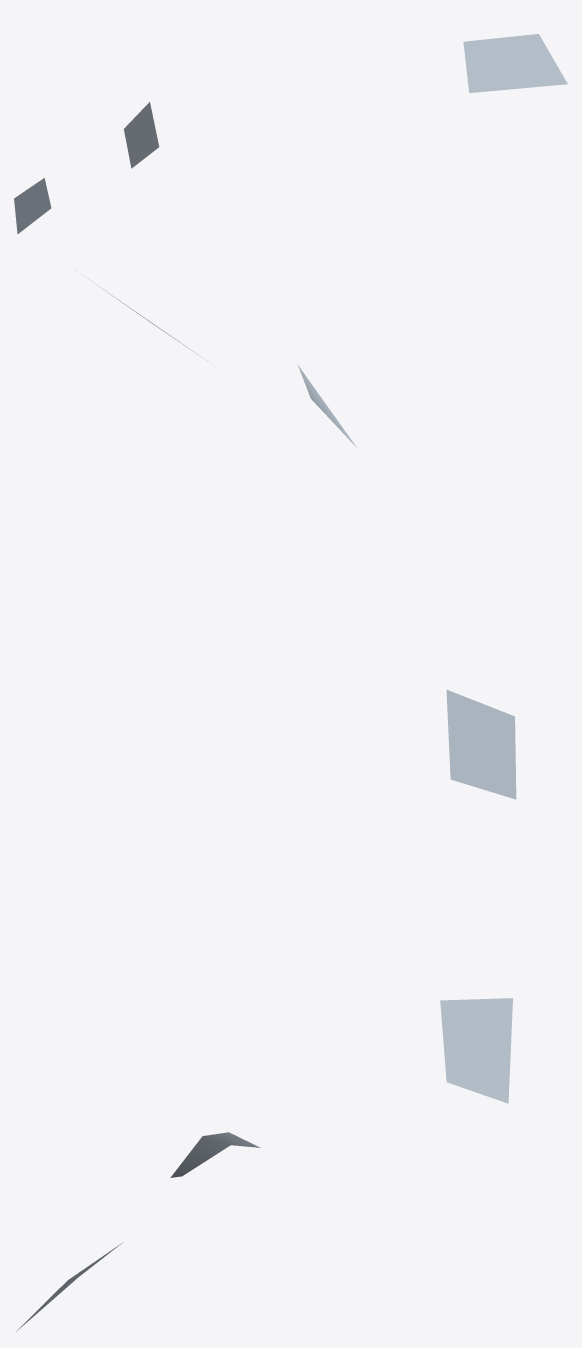
File: dorsal-metatarsal-ligaments-r.glb
3 renders of one model, top to bottom at view 1: azimuth 30°, elevation 25°; view 2: azimuth 150°, elevation 25°; view 3: azimuth 270°, elevation 25°, orthographic. The views are drawn at different scales.
Visible parts, largest first — view 1: Dorsal metatarsal ligaments.r; view 2: Dorsal metatarsal ligaments.r; view 3: Dorsal metatarsal ligaments.r.
Boxes of the visible parts, x1,y1,x2,y2 form: Dorsal metatarsal ligaments.r: (14, 34, 567, 233); Dorsal metatarsal ligaments.r: (77, 271, 516, 1103); Dorsal metatarsal ligaments.r: (16, 1132, 260, 1331).
Bounding box in the file's own units: 0.0364 × 0.0221 × 0.0316.
